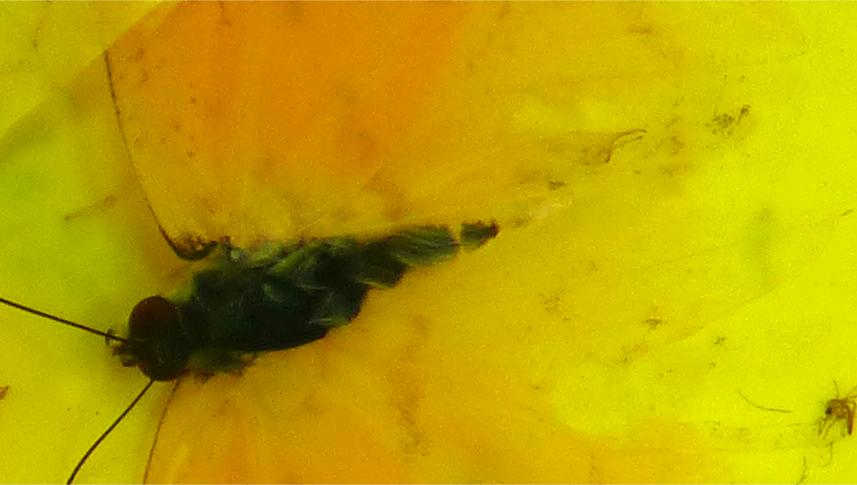Lepidoptera: (100, 100, 757, 385)
